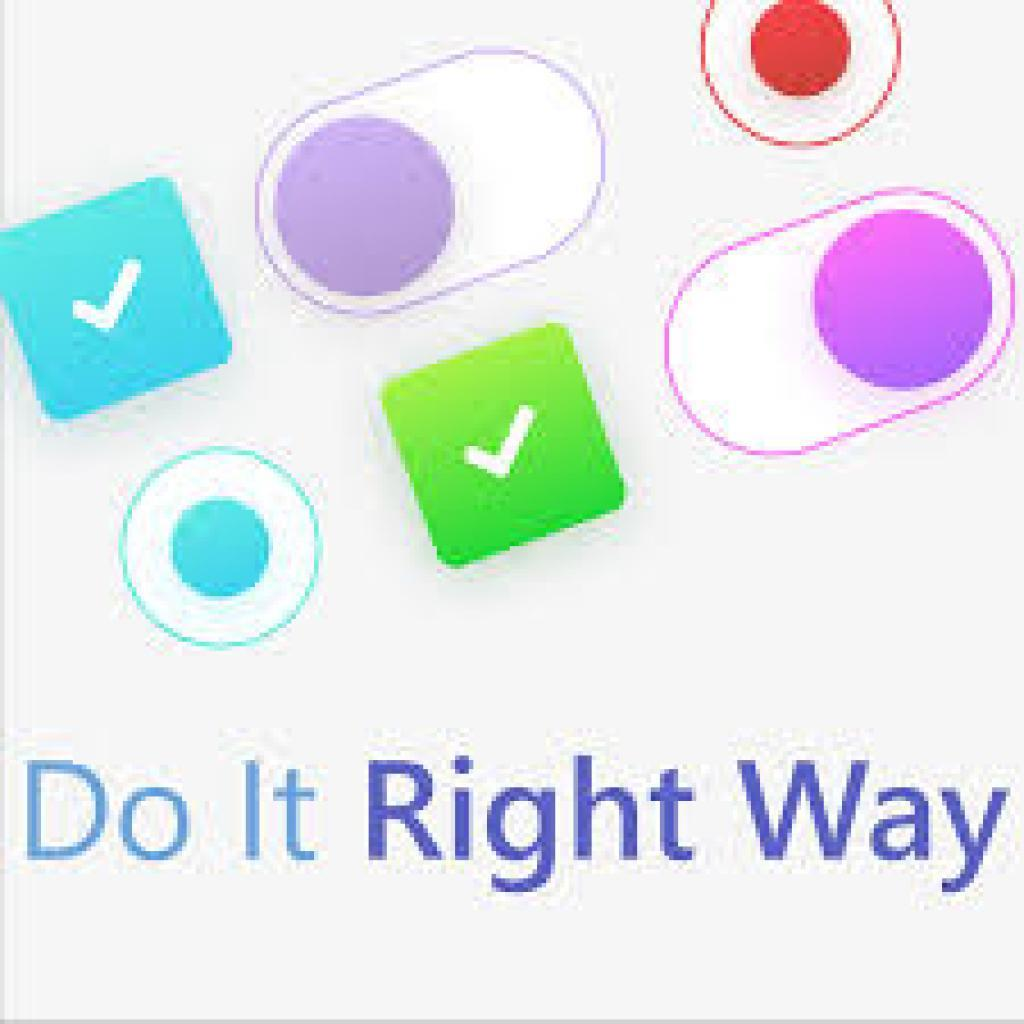checkbox: (366, 323, 628, 566), (4, 180, 236, 429)
radio: (106, 438, 335, 664)
switch: (241, 34, 641, 319), (649, 178, 1024, 471)
